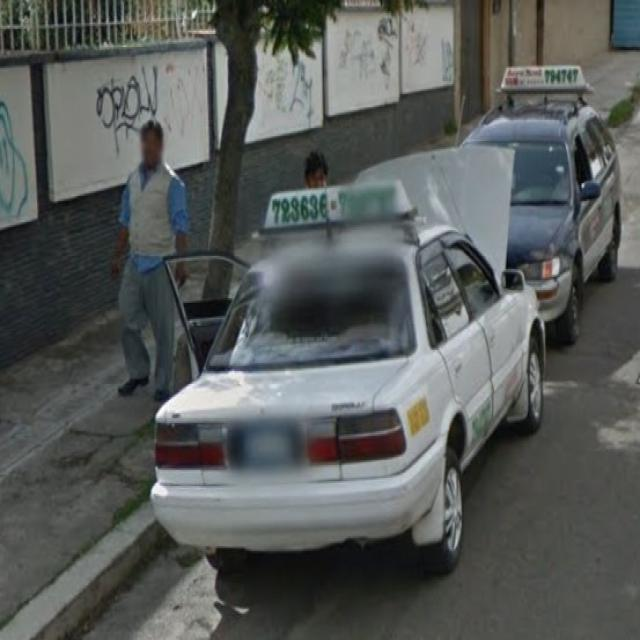cars: (145, 204, 542, 588), (472, 58, 628, 313)
